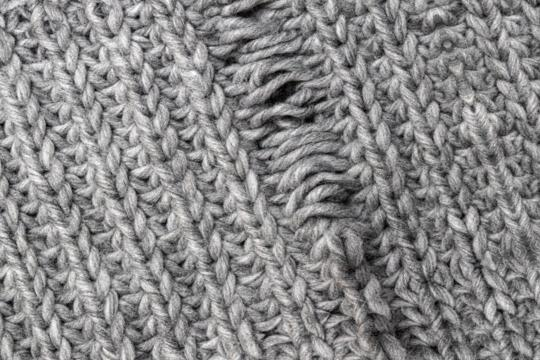slub: (193, 0, 382, 224)
